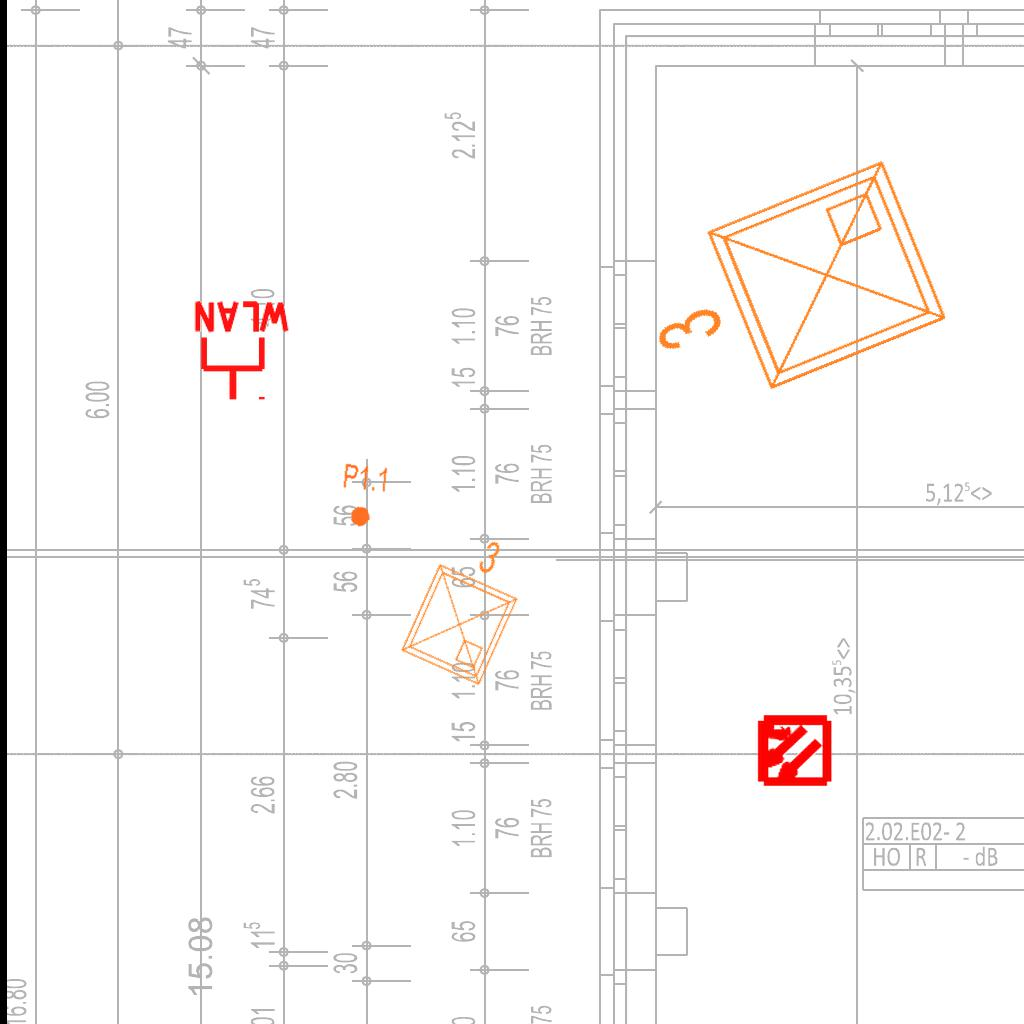Downlight_LED_Einbauleuchten_Flur: (337, 461, 391, 531)
Einbaudownlights_LED_Konferenzraeume: (611, 141, 969, 447), (387, 515, 545, 695)
OT_Multisensormelder_(Kombination_RMO_WMD): (736, 694, 849, 807)
WLAN: (190, 299, 294, 404)
